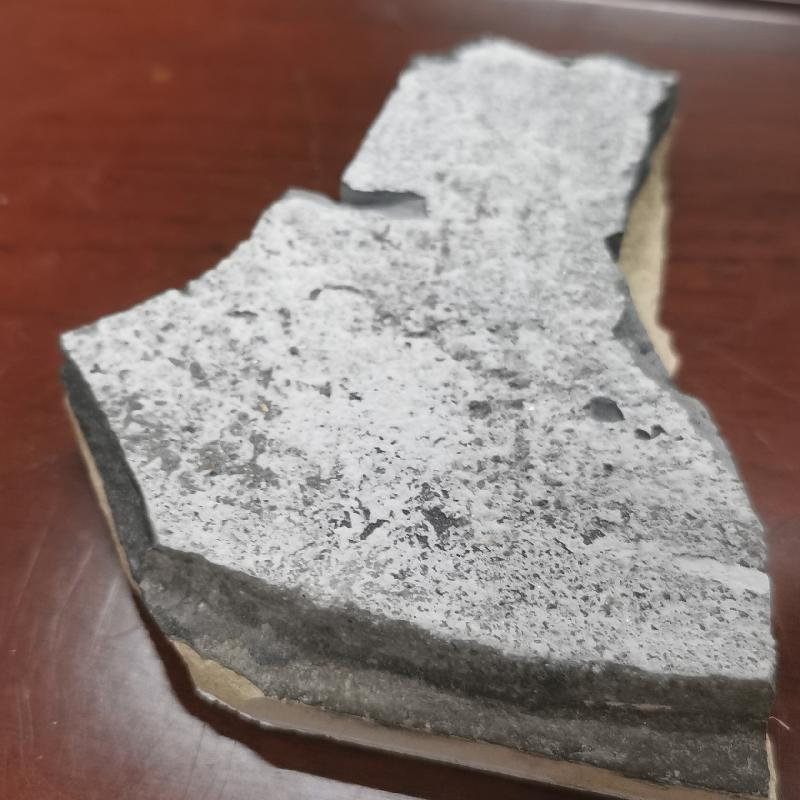tile: (54, 31, 783, 799)
